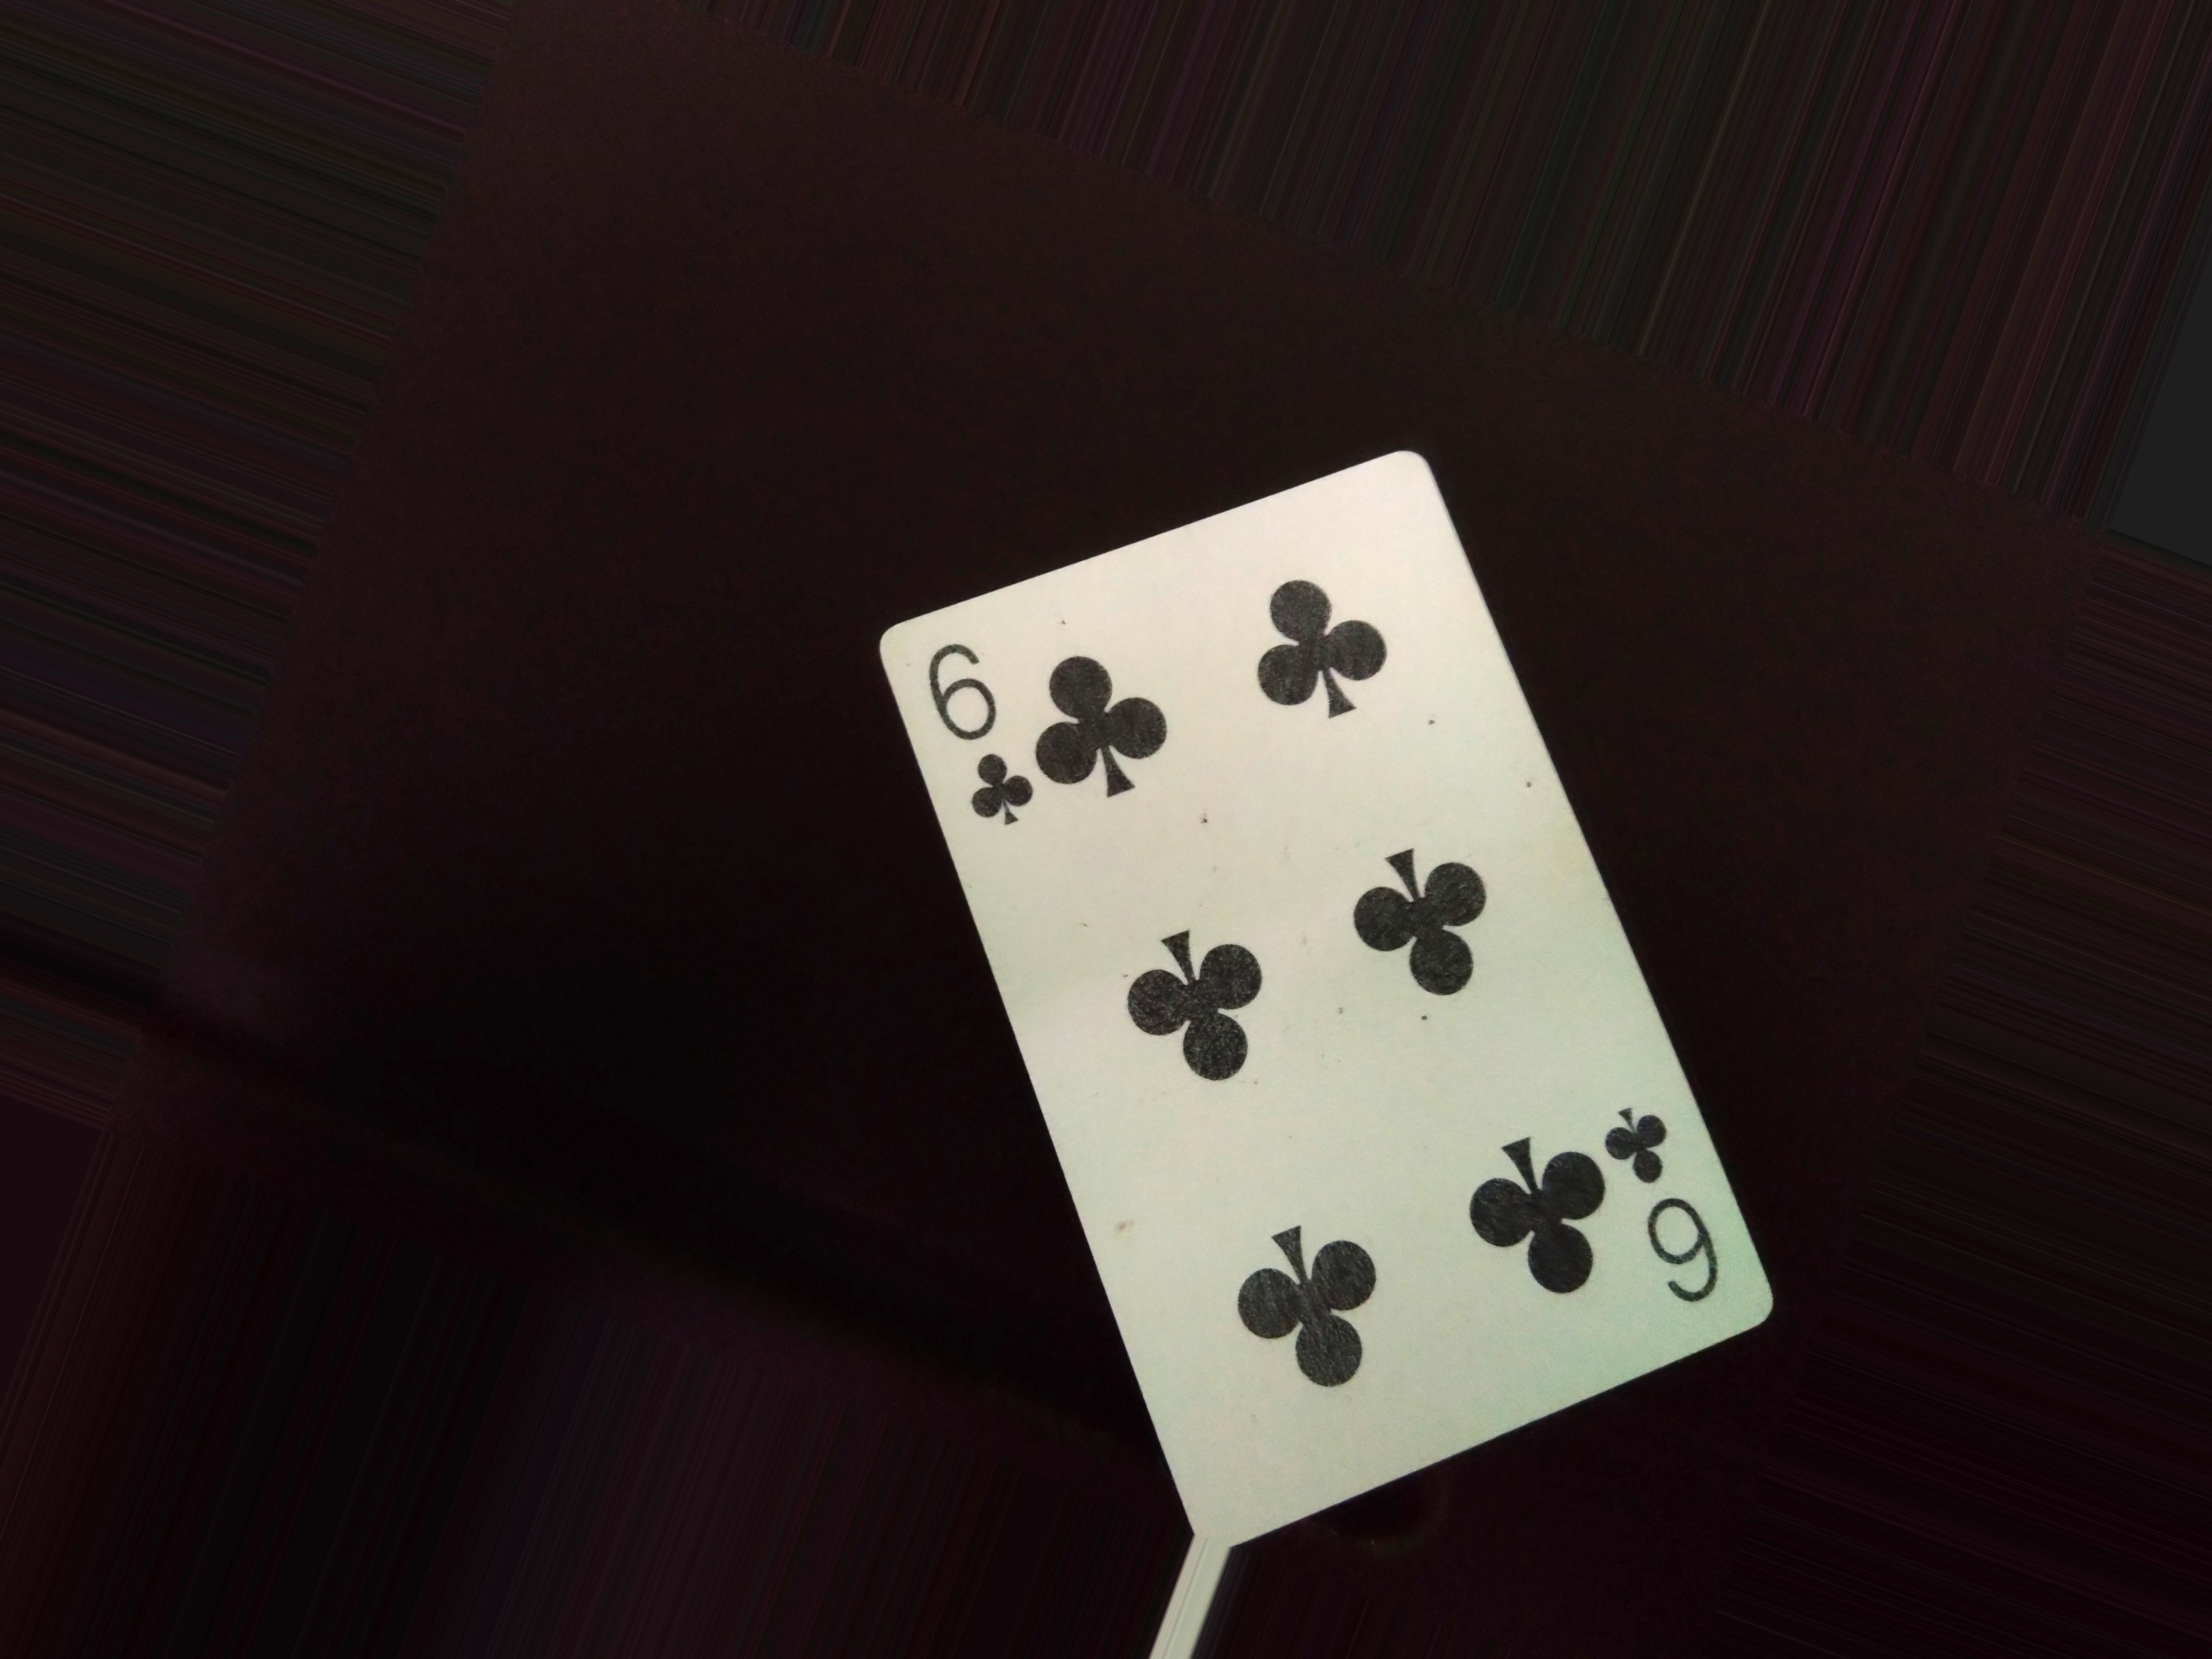6C: (920, 636, 1045, 845)
